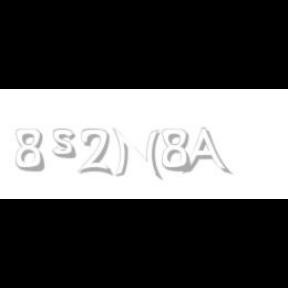2: (77, 128, 111, 176)
8: (16, 128, 44, 172), (162, 128, 190, 172)
A: (181, 128, 229, 176)
N: (112, 128, 160, 180)
s: (52, 128, 80, 160)
